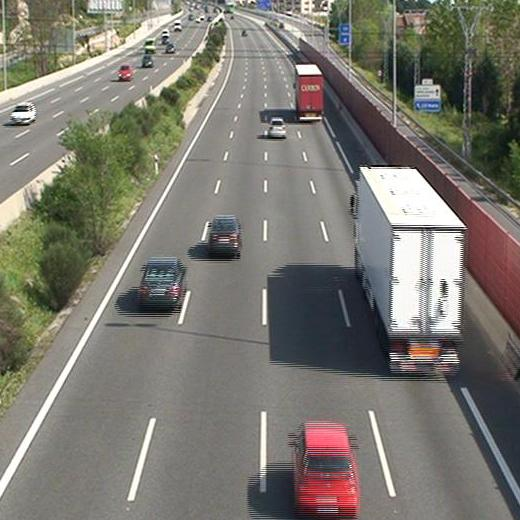car: (292, 419, 362, 517), (140, 260, 180, 304), (208, 217, 240, 253), (268, 118, 285, 139)
truck: (355, 166, 463, 374), (294, 63, 322, 120)
